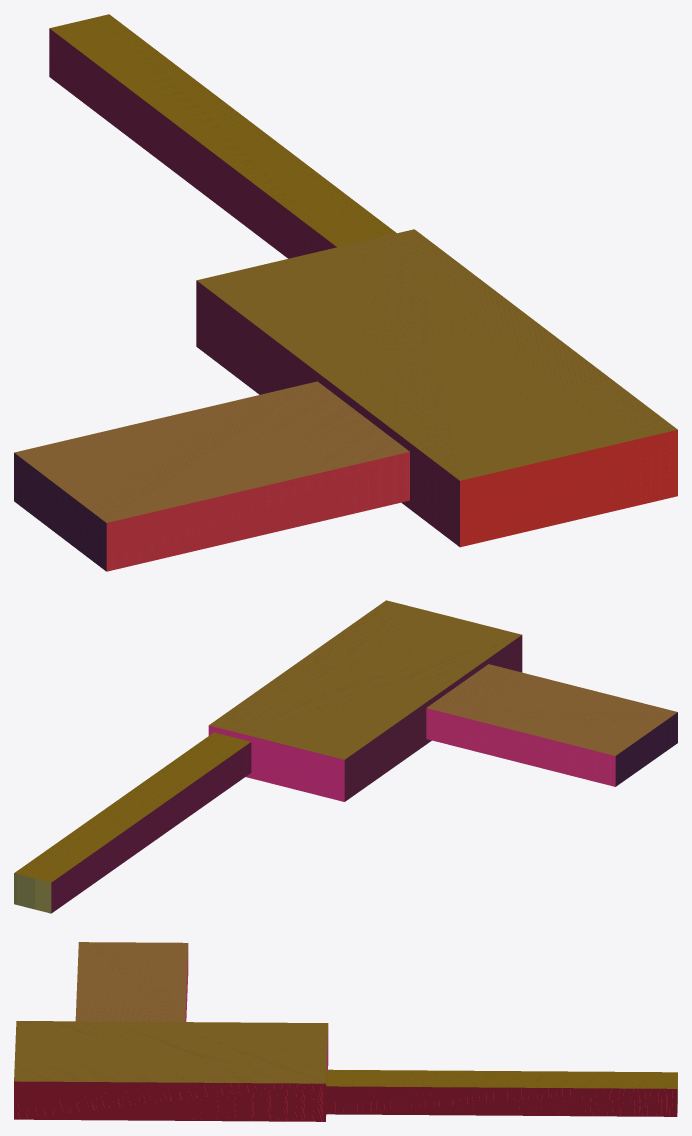
File: primary_18.glb
3 renders of one model, top to bottom at view 1: azimuth 30°, elevation 25°; view 2: azimuth 150°, elevation 25°; view 3: azimuth 270°, elevation 25°, orthographic. The views are drawn at different scales.
Parts seen in each view (by area): view 1: Object; view 2: Object; view 3: Object.
Part boxes in pixels (x1,y1,x2,y2): Object: [14, 14, 677, 571]; Object: [14, 600, 677, 913]; Object: [14, 942, 677, 1121].
Size of the model in its own units: 0.2796 by 0.0339 by 0.5344.
17 materials, 17 textured.
